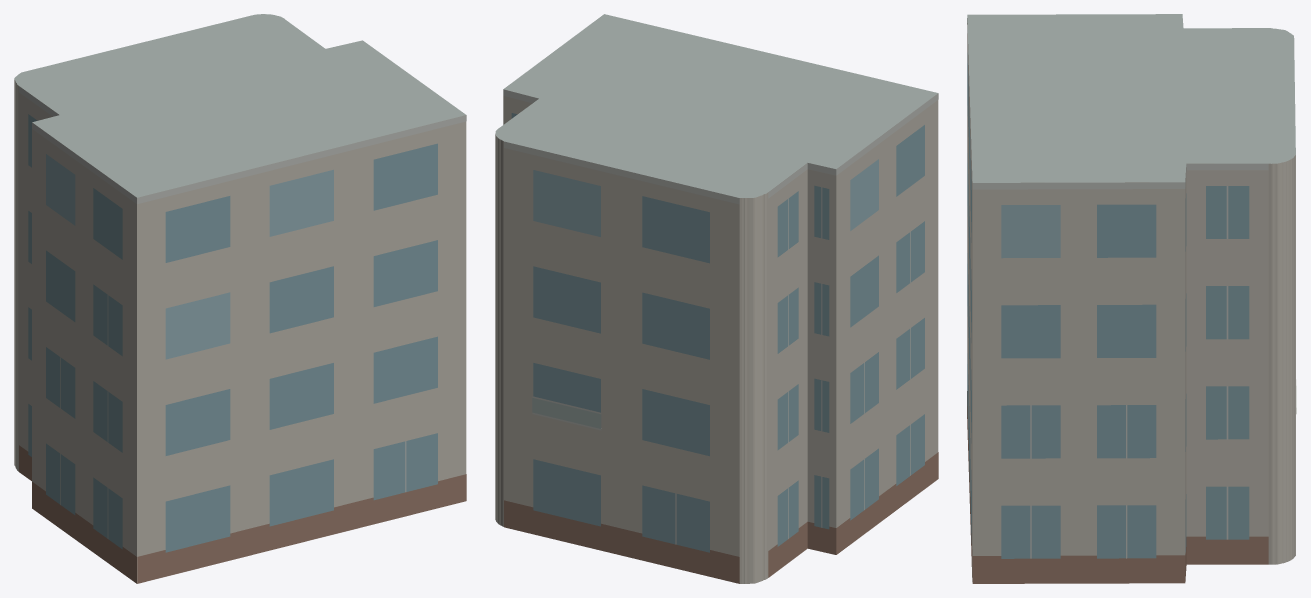
The model's file is survey-upis-32659529.glb.
3 renders of one model, left to right at view 1: azimuth 30°, elevation 25°; view 2: azimuth 150°, elevation 25°; view 3: azimuth 270°, elevation 25°, orthographic. The views are drawn at different scales.
Visible parts, largest first — view 1: survey-upis-32659529.tmp; view 2: survey-upis-32659529.tmp; view 3: survey-upis-32659529.tmp.
Boxes of the visible parts, x1,y1,x2,y2 form: survey-upis-32659529.tmp: [14, 14, 466, 583]; survey-upis-32659529.tmp: [495, 14, 938, 583]; survey-upis-32659529.tmp: [967, 14, 1296, 583].
Bounding box in the file's own units: 13.16 × 14.55 × 10.85.
